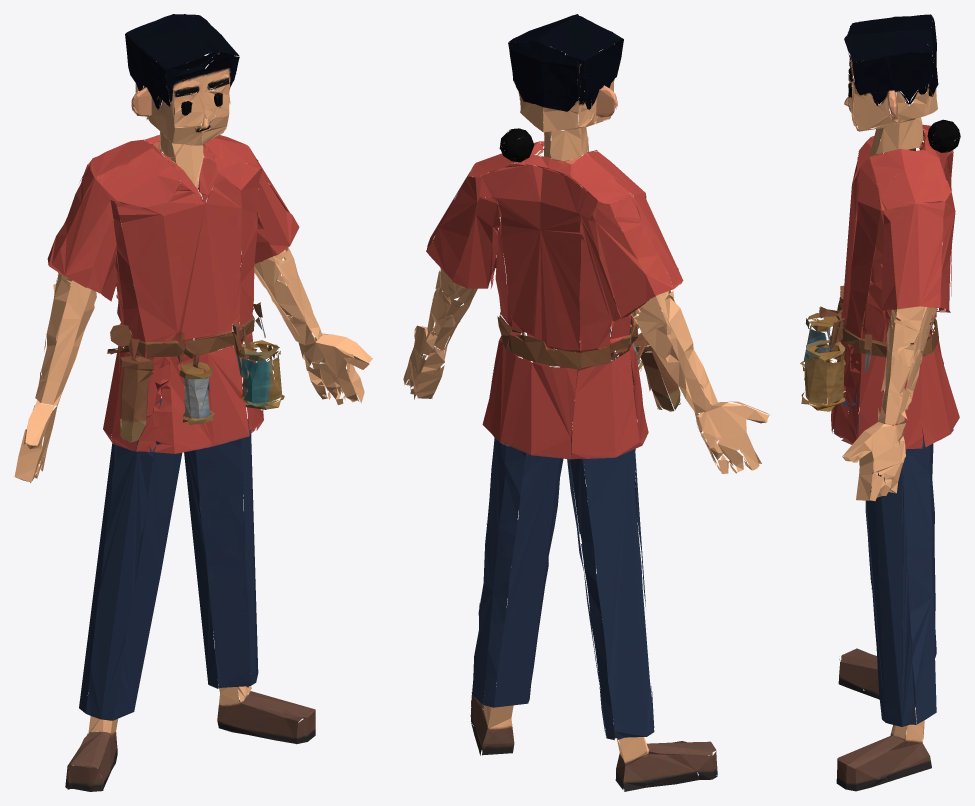
Rendered from habitant.glb.
The picture shows the model from 3 angles, left to right: view 1: azimuth 30°, elevation 25°; view 2: azimuth 150°, elevation 25°; view 3: azimuth 270°, elevation 25°; orthographic projection. The views are drawn at different scales.
Parts seen in each view (by area): view 1: world; view 2: world; view 3: world.
Boxes of the visible parts, box(x1,y1,x2,y2) form: world: box(14, 14, 372, 791); world: box(403, 14, 770, 791); world: box(800, 14, 960, 791).
Bounding box in the file's own units: 0.5137 × 1 × 0.2058.
Materials: 1 (1 with a texture image).
